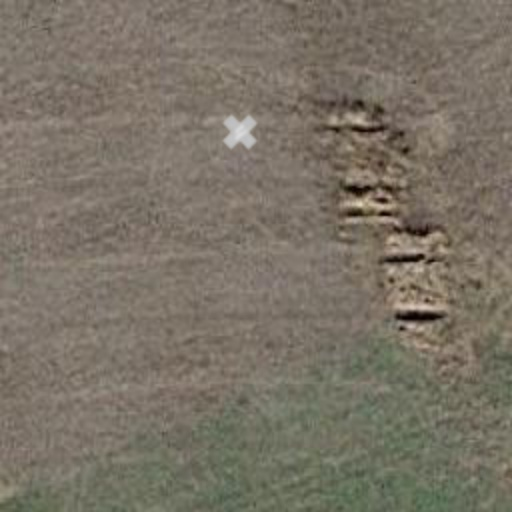cross: (212, 104, 268, 160)
